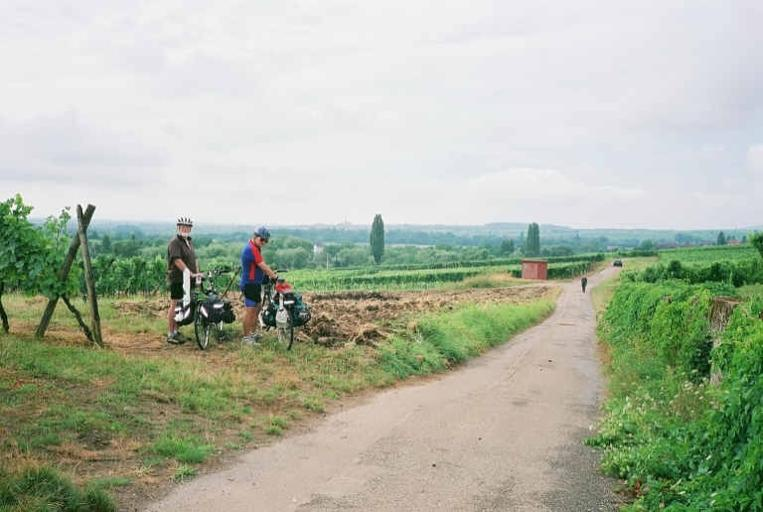non-vehicle: (193, 265, 228, 350), (259, 269, 295, 349)
